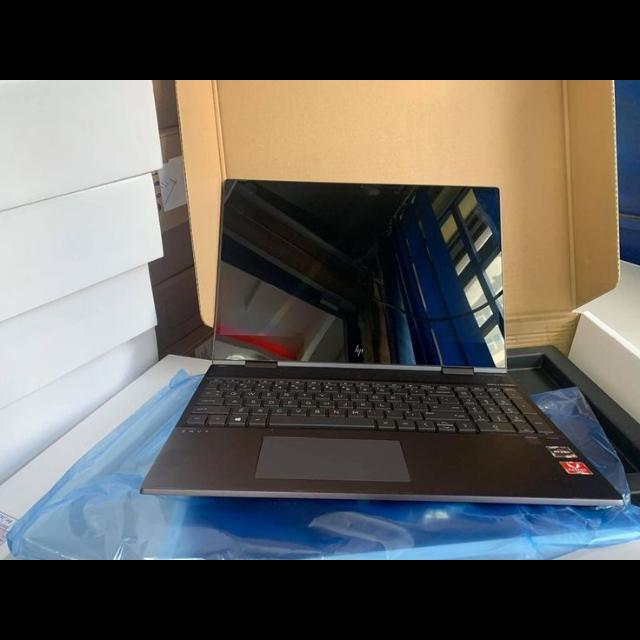laptop: (138, 173, 620, 507)
